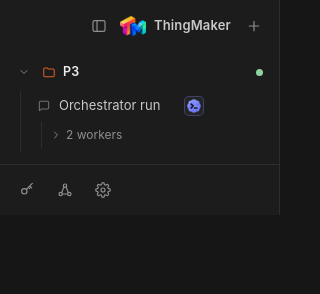
Test case: workers under their orchestrator › fold finished workers away behind a count, and show them on request
Click the button "2 workers" at (86, 135), box top-left (42, 122), bottom-right (130, 148)
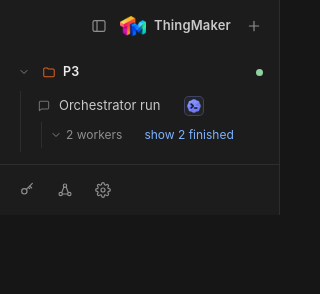
expect the text "luna · first job" is not shown: met
Click the button "show 2 finished" at (189, 135), box top-left (140, 126), bottom-right (238, 144)
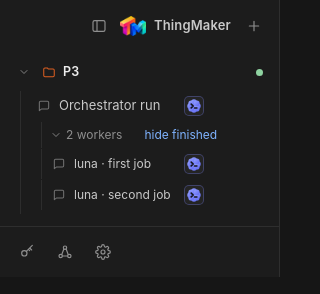
expect the text "luna · first job" is shown: met, box top-left (74, 156), bottom-right (151, 171)
expect the text "luna · second job" is shown: met, box top-left (74, 186), bottom-right (176, 204)
